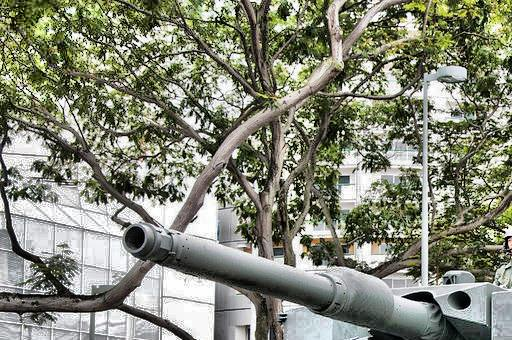tanks: (127, 225, 512, 340)
